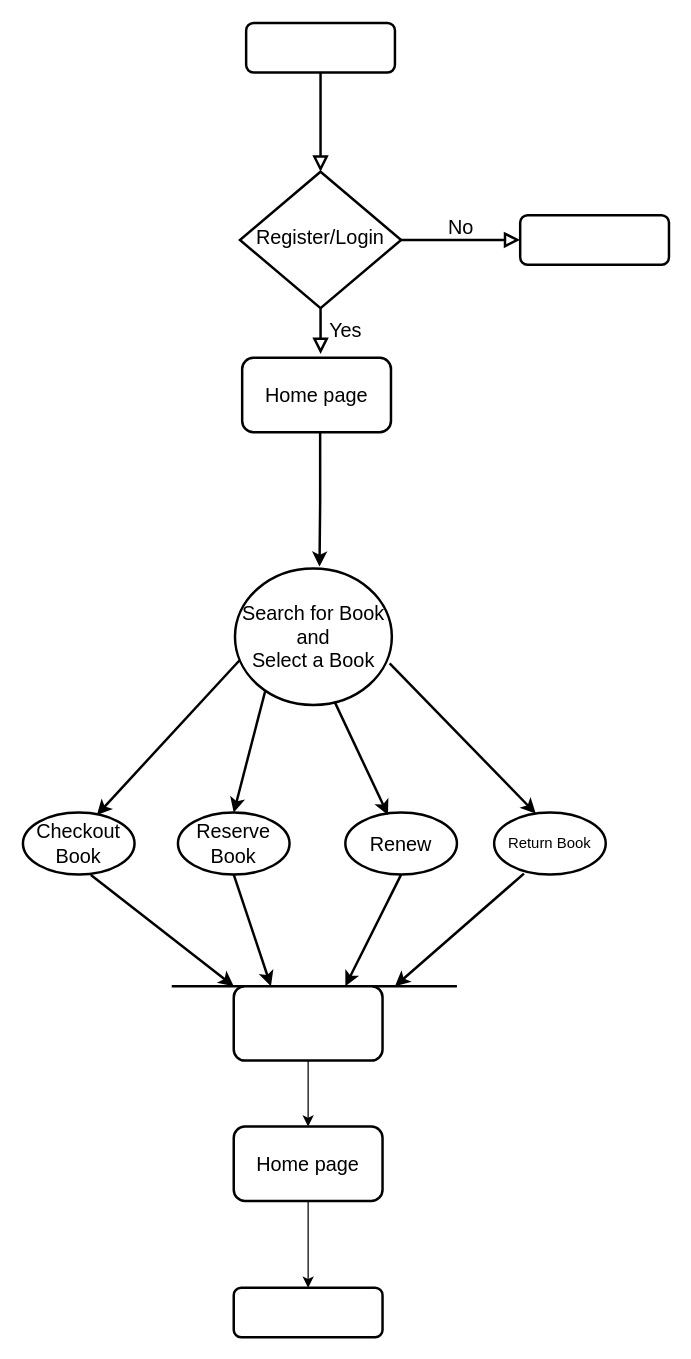
The diagram is 691 pixels wide and 1359 high, and some of its shapes have lost their labels. Each missing label, with the box of its shape:
Completion page: (232, 984, 383, 1061)
Home for Guest: (518, 213, 670, 265)
Logout: (232, 1286, 383, 1338)
User: (244, 21, 396, 73)
